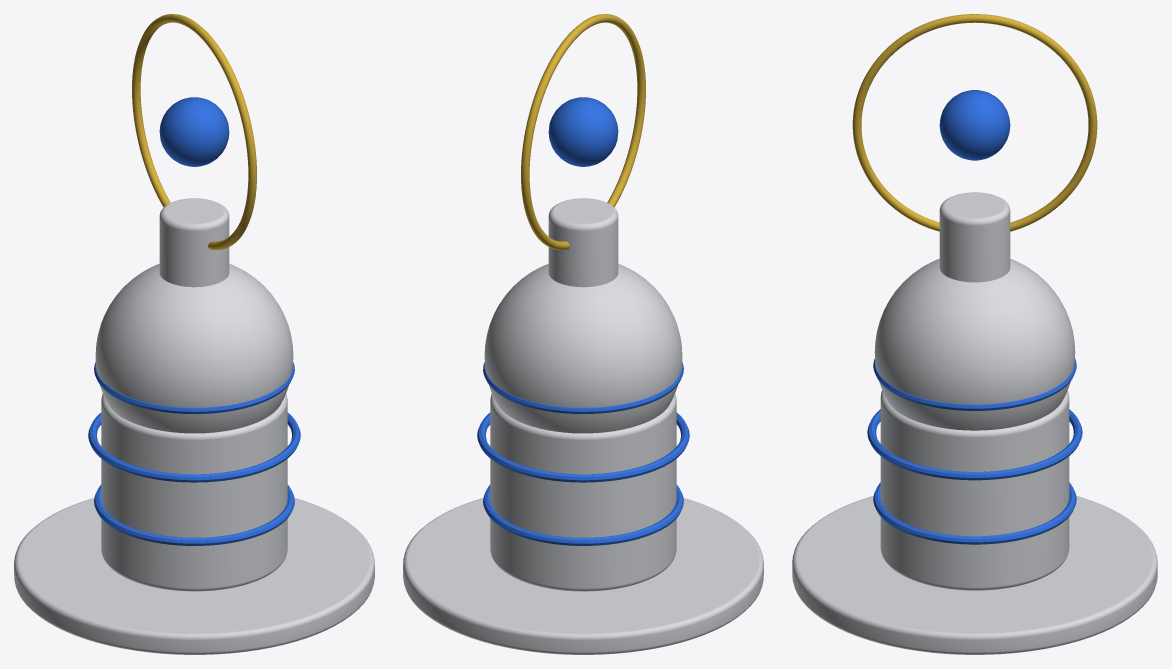
Rendered from theme_15.glb.
3 renders of one model, left to right at view 1: azimuth 30°, elevation 25°; view 2: azimuth 150°, elevation 25°; view 3: azimuth 270°, elevation 25°, orthographic.
Visible parts, largest first — view 1: theme_15; view 2: theme_15; view 3: theme_15.
Boxes of the visible parts, <box> form: theme_15: <box>14,14,374,654</box>; theme_15: <box>403,14,763,654</box>; theme_15: <box>792,14,1157,654</box>.
Size of the model in its own units: 1.24 by 2.12 by 1.24.
